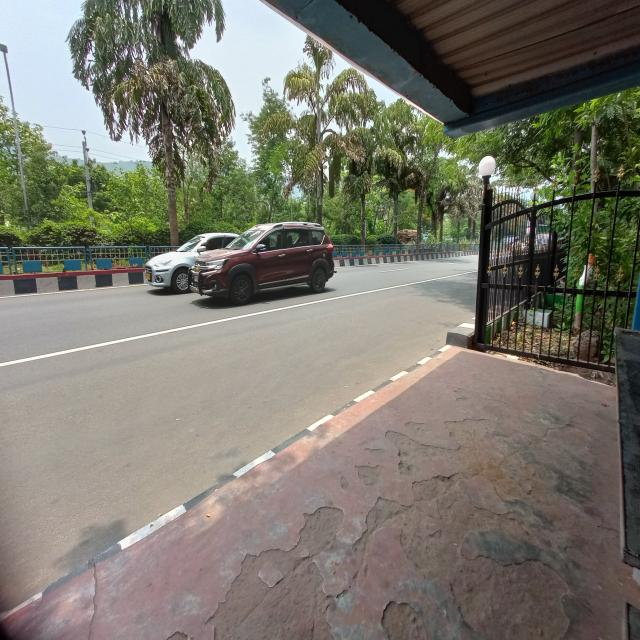car: (197, 221, 346, 304), (136, 222, 216, 298)
